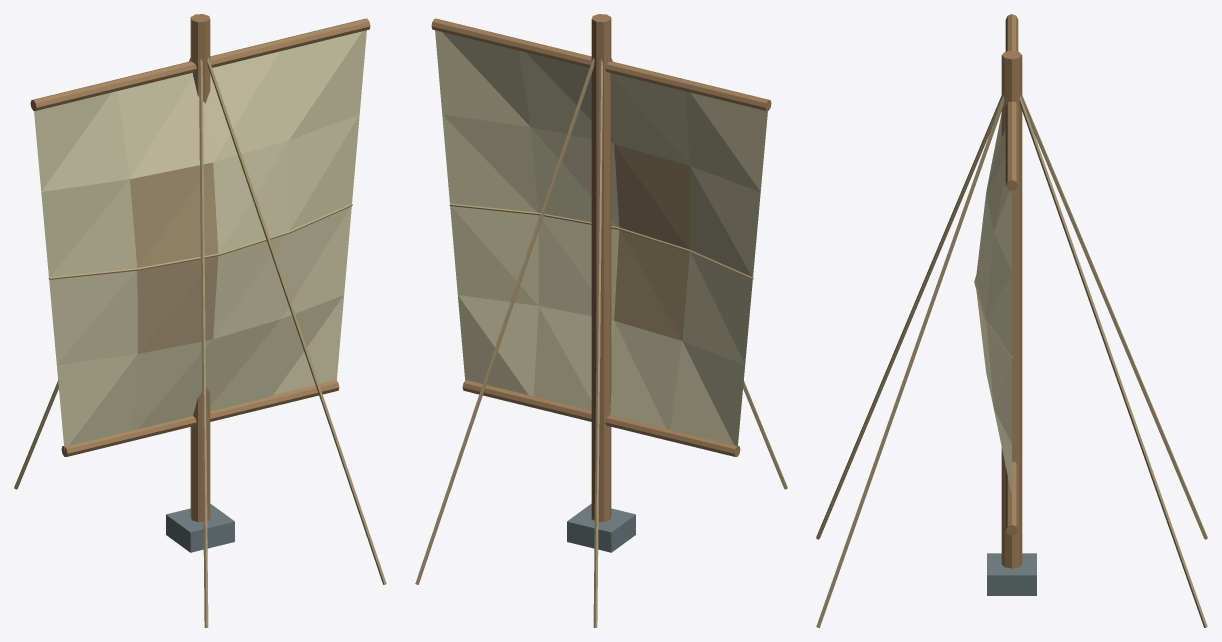
File: campaign_raft_sail.glb
The picture shows the model from 3 angles, left to right: view 1: azimuth 30°, elevation 25°; view 2: azimuth 150°, elevation 25°; view 3: azimuth 270°, elevation 25°; orthographic projection.
Parts seen in each view (by area): view 1: campaign_raft_sail; view 2: campaign_raft_sail; view 3: campaign_raft_sail.
Boxes of the visible parts, <box> form: campaign_raft_sail: <box>14,14,386,627</box>; campaign_raft_sail: <box>415,14,787,627</box>; campaign_raft_sail: <box>816,14,1207,627</box>.
Bounding box in the file's own units: 1.72 × 2.56 × 1.71.
